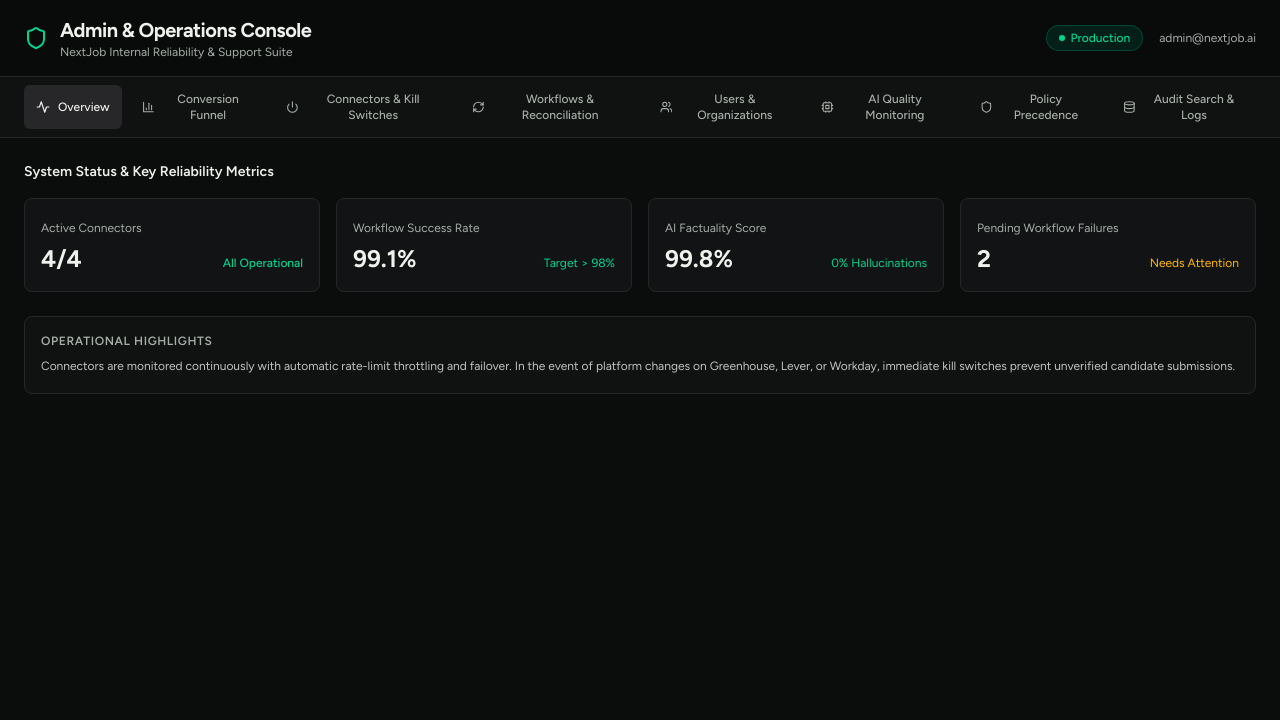
Test case: AdminConsolePage (T-33, Admin & Operations Console) › navigates to Users tab and filters candidate list by search query
The width and height of the screenshot is (1280, 720).
# Click Users tab
Click the button "Users & Organizations" at (724, 107), box [648, 85, 801, 129]
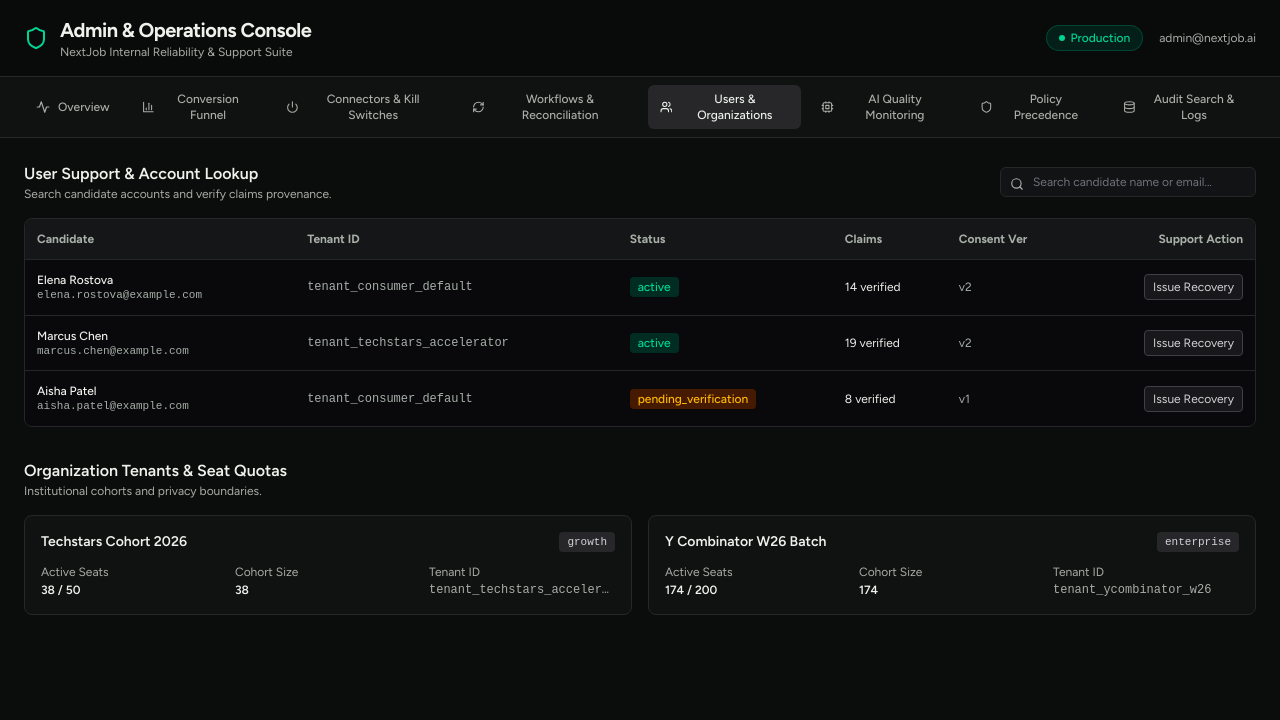
expect the heading "User Support & Account Lookup" is shown: met, box [24, 164, 258, 183]
expect the text "Elena Rostova" is shown: met, box [37, 273, 113, 287]
expect the text "Marcus Chen" is shown: met, box [37, 329, 108, 343]
# Search for Elena
Type "Elena" into the search field with placeholder "Search candidate name or email..." at (1128, 182), box [1000, 167, 1256, 197]
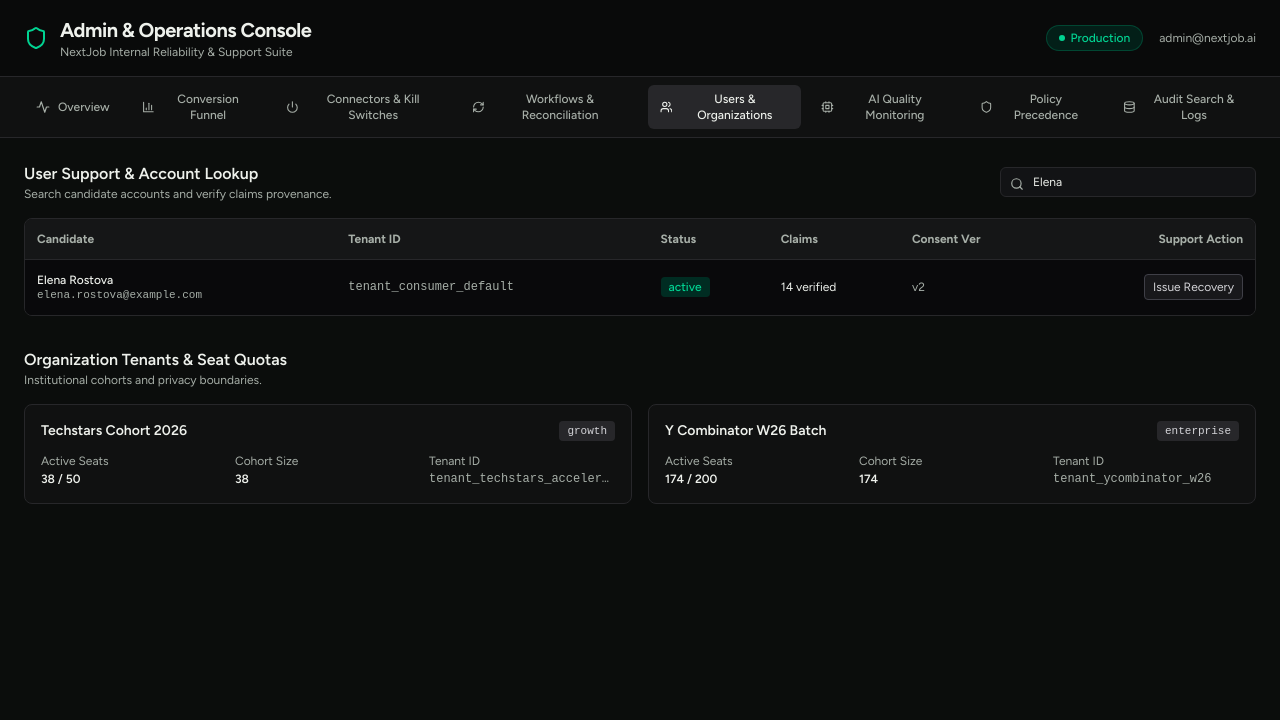
expect the text "Elena Rostova" is shown: met, box [37, 273, 113, 287]
expect the text "Marcus Chen" is gone: met
# Click Issue Recovery button
Click the button "Issue Recovery" at (1194, 287), box [1144, 274, 1243, 300]
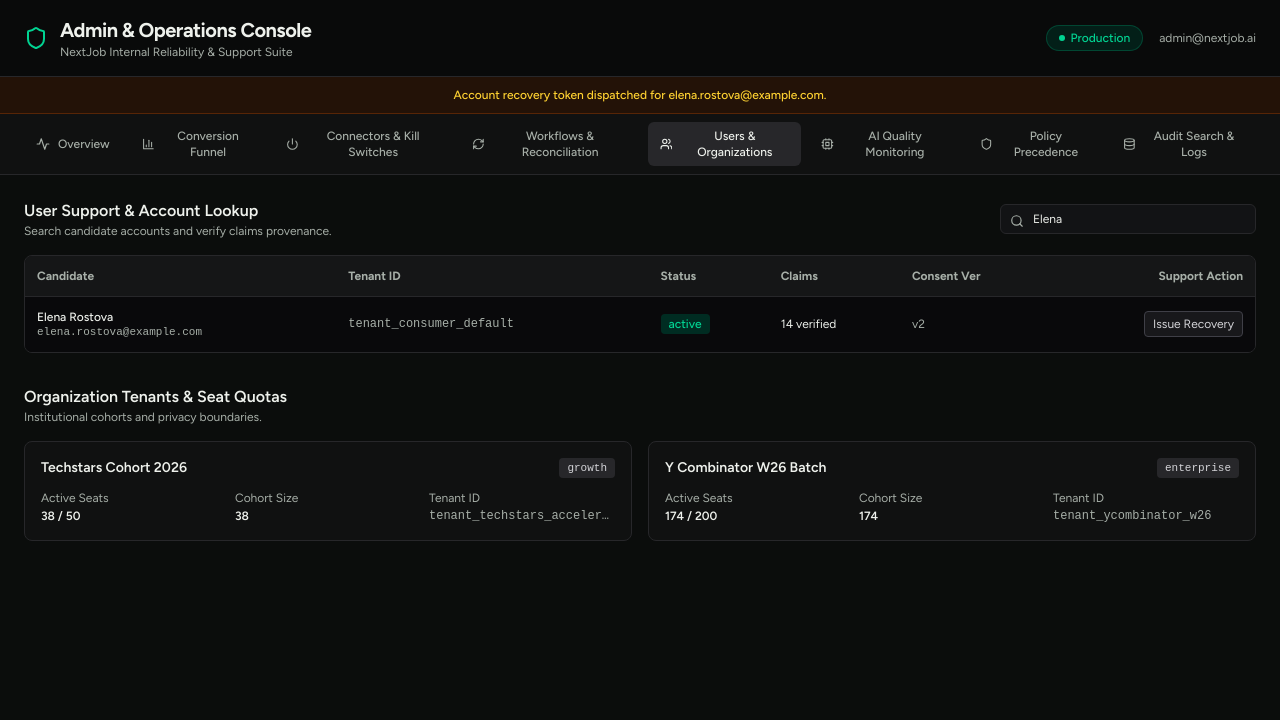
expect the text "Account recovery token dispatched for elena.rostova@example.com." is shown: met, box [0, 77, 1279, 114]
